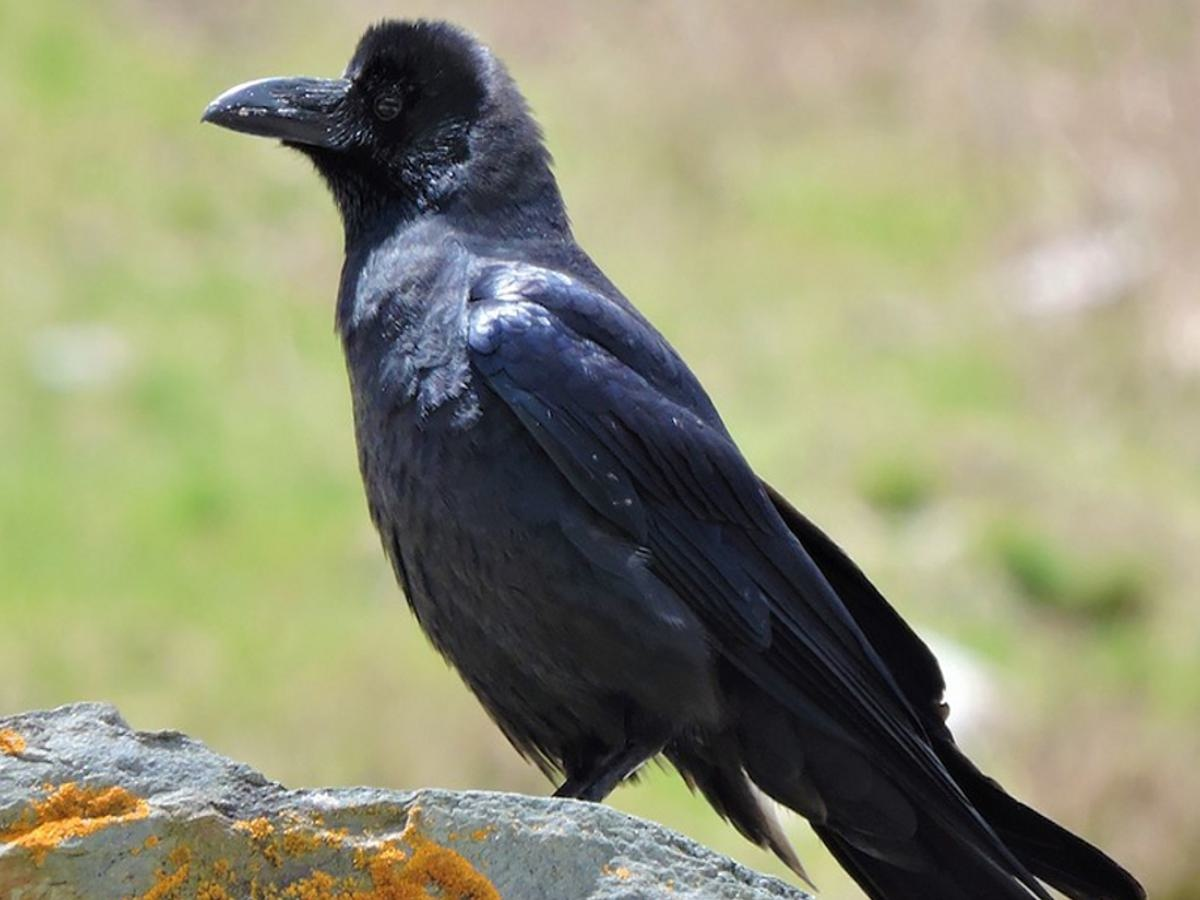crow: (195, 13, 1123, 900)
